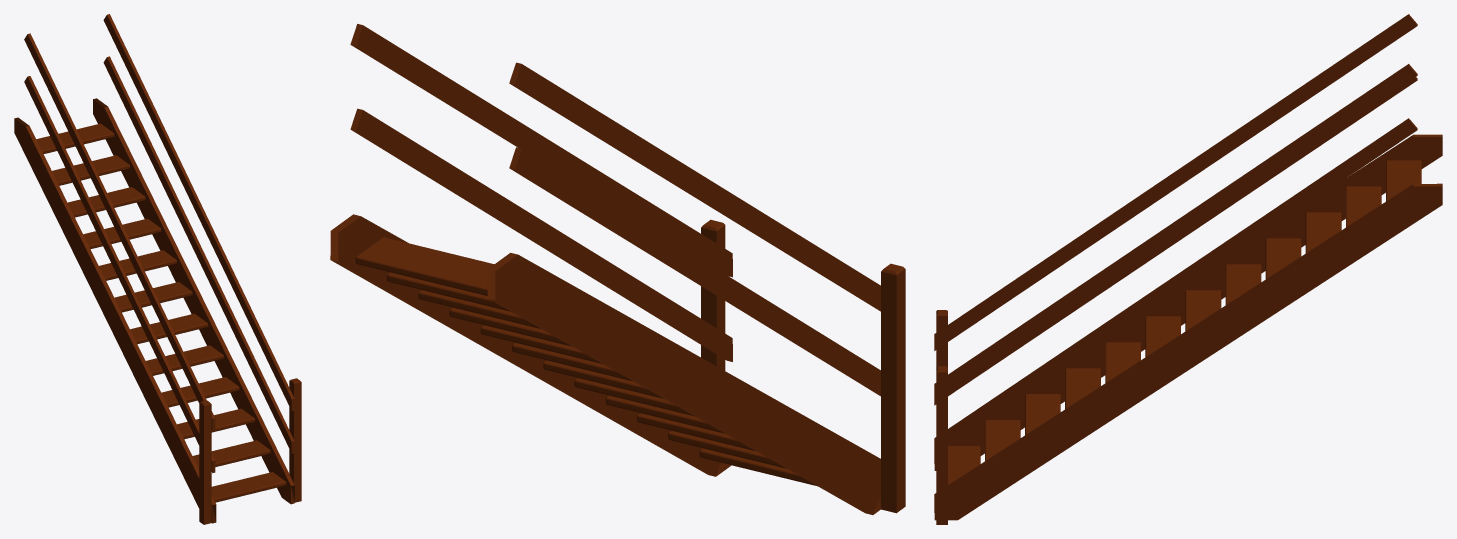
The model's file is Escalera.obj.
3 renders of one model, left to right at view 1: azimuth 30°, elevation 25°; view 2: azimuth 150°, elevation 25°; view 3: azimuth 270°, elevation 25°, orthographic. The views are drawn at different scales.
Parts seen in each view (by area): view 1: stairs.lwo; view 2: stairs.lwo; view 3: stairs.lwo.
Boxes of the visible parts, box(x1,y1,x2,y2) form: stairs.lwo: box(14, 14, 301, 524); stairs.lwo: box(330, 24, 905, 514); stairs.lwo: box(934, 14, 1442, 524).
Bounding box in the file's own units: 9.95 × 34.45 × 34.93.
